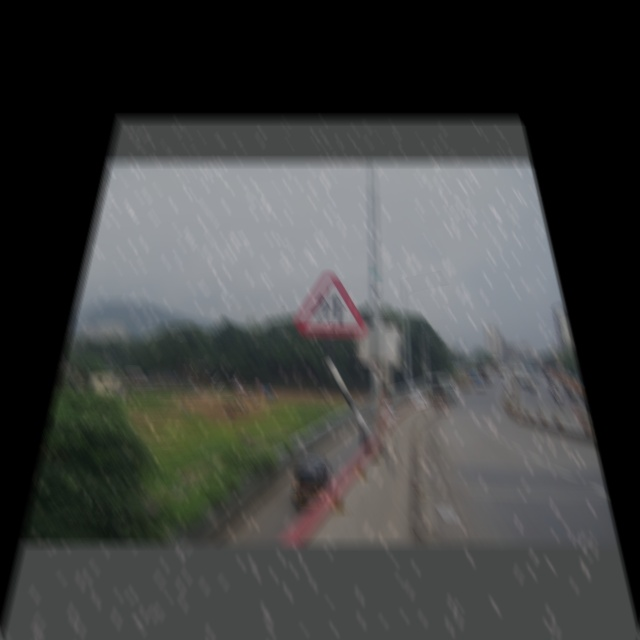Merge_Traffic_Ahead: (291, 267, 364, 341)
